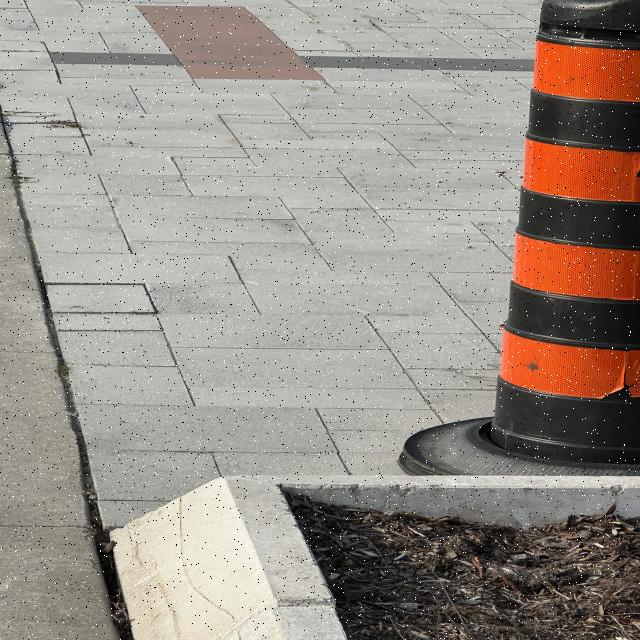Teraffic Barrel: (401, 0, 640, 474)
